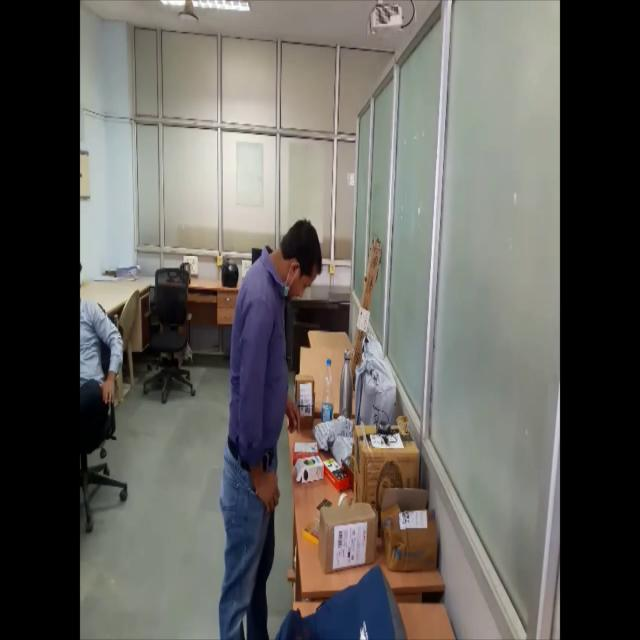shoplifting: (212, 197, 322, 640)
